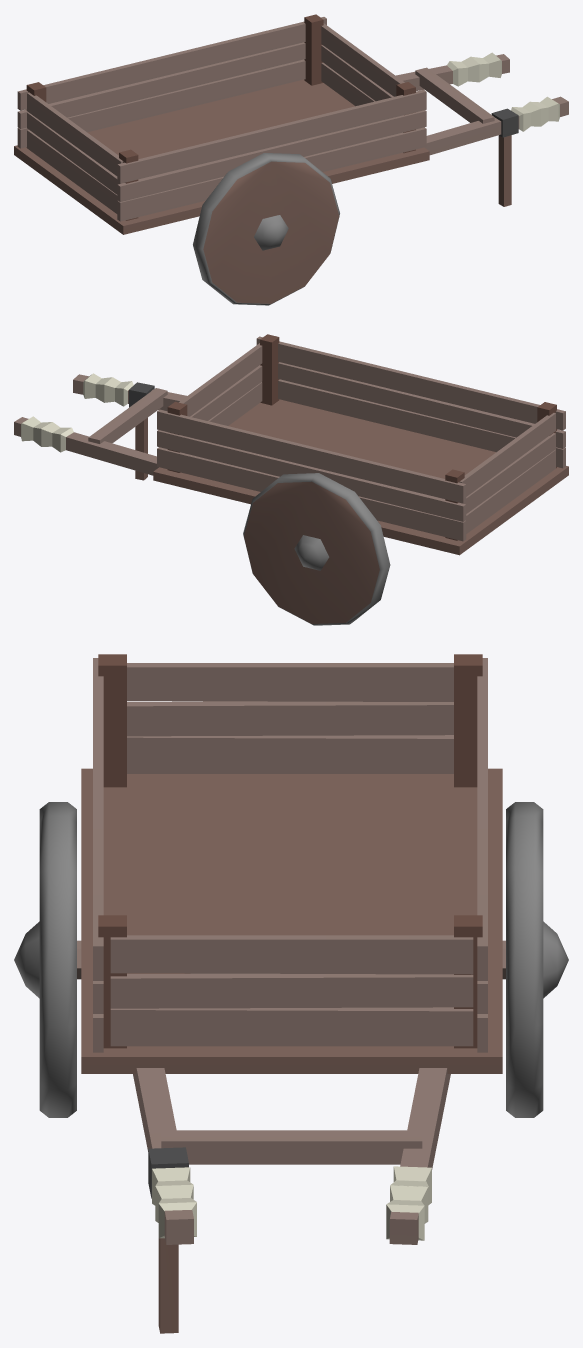
File: sn_cart.glb
3 views of the same model, one above another, from view 1: azimuth 30°, elevation 25°; view 2: azimuth 150°, elevation 25°; view 3: azimuth 270°, elevation 25° (orthographic). The views are drawn at different scales.
Visible parts, largest first — view 1: sn_cart; view 2: sn_cart; view 3: sn_cart.
Part boxes in pixels (bbox=[...]): sn_cart: bbox=[14, 14, 568, 305]; sn_cart: bbox=[14, 334, 568, 625]; sn_cart: bbox=[14, 654, 568, 1333].
Bounding box in the file's own units: 4.02 × 1.39 × 2.14.
